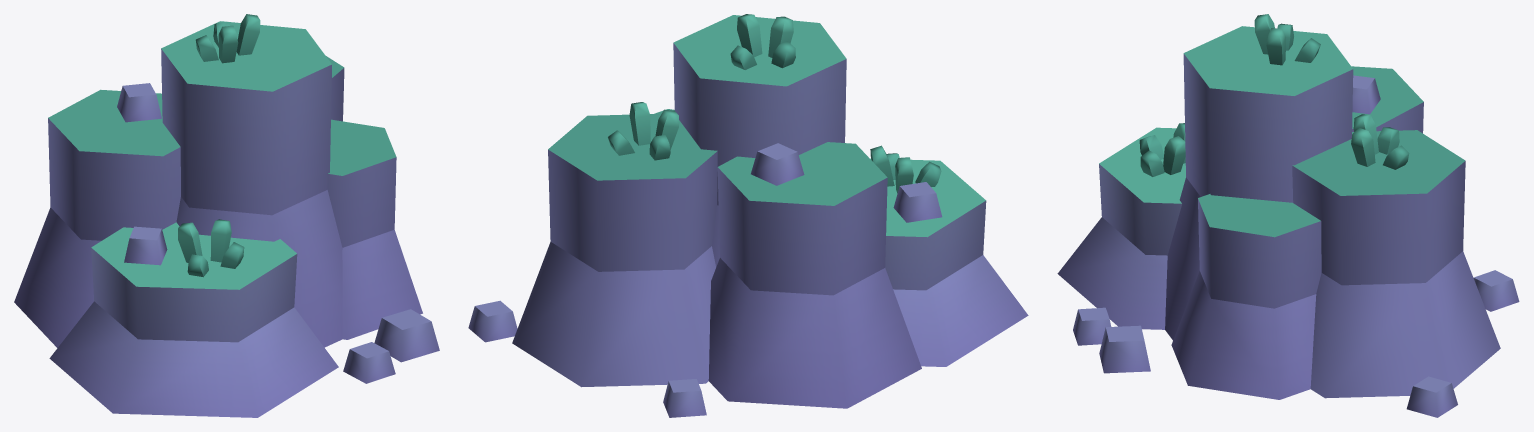
The model's file is rocks-sand-c.fbx.
The picture shows the model from 3 angles, left to right: view 1: azimuth 30°, elevation 25°; view 2: azimuth 150°, elevation 25°; view 3: azimuth 270°, elevation 25°; orthographic projection. The views are drawn at different scales.
Parts seen in each view (by area): view 1: rocks-sand-c; view 2: rocks-sand-c; view 3: rocks-sand-c.
Part boxes in pixels (left/top/right/bottom): rocks-sand-c: left=14, top=14, right=439, bottom=417; rocks-sand-c: left=468, top=14, right=1028, bottom=417; rocks-sand-c: left=1057, top=14, right=1519, bottom=417.
Size of the model in its own units: 371 by 261 by 372.
